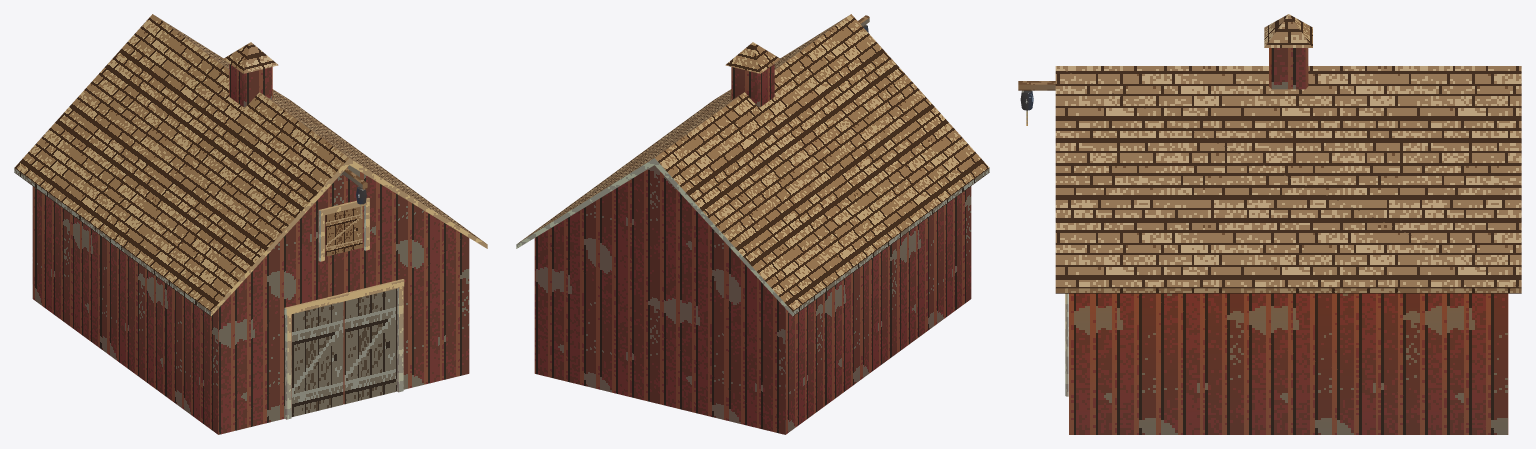
File: wtown.stable__barn.glb
3 views of the same model, side by side, from view 1: azimuth 30°, elevation 25°; view 2: azimuth 150°, elevation 25°; view 3: azimuth 270°, elevation 25° (orthographic). The views are drawn at different scales.
Visible parts, largest first — view 1: kit_roof, kit_body, kit_card_panes, kit_trim, kit_cupola, kit_cupola_cap; view 2: kit_body, kit_roof, kit_cupola, kit_cupola_cap; view 3: kit_roof, kit_body, kit_cupola, kit_cupola_cap, kit_hoist.
Part boxes in pixels (x1=…): kit_roof: x1=14, y1=14, x2=487, y2=316; kit_body: x1=32, y1=165, x2=469, y2=434; kit_card_panes: x1=292, y1=206, x2=395, y2=416; kit_trim: x1=284, y1=198, x2=404, y2=419; kit_cupola: x1=229, y1=64, x2=272, y2=107; kit_cupola_cap: x1=223, y1=42, x2=278, y2=73; kit_body: x1=534, y1=165, x2=971, y2=434; kit_roof: x1=516, y1=14, x2=989, y2=316; kit_cupola: x1=731, y1=64, x2=774, y2=107; kit_cupola_cap: x1=725, y1=42, x2=780, y2=73; kit_roof: x1=1055, y1=66, x2=1521, y2=293; kit_body: x1=1069, y1=293, x2=1508, y2=434; kit_cupola: x1=1269, y1=48, x2=1308, y2=89; kit_cupola_cap: x1=1264, y1=14, x2=1312, y2=47; kit_hoist: x1=1018, y1=81, x2=1055, y2=110.
Size of the model in its own units: 8.6 by 8.75 by 11.45.
Materials: 7 (7 with a texture image).
